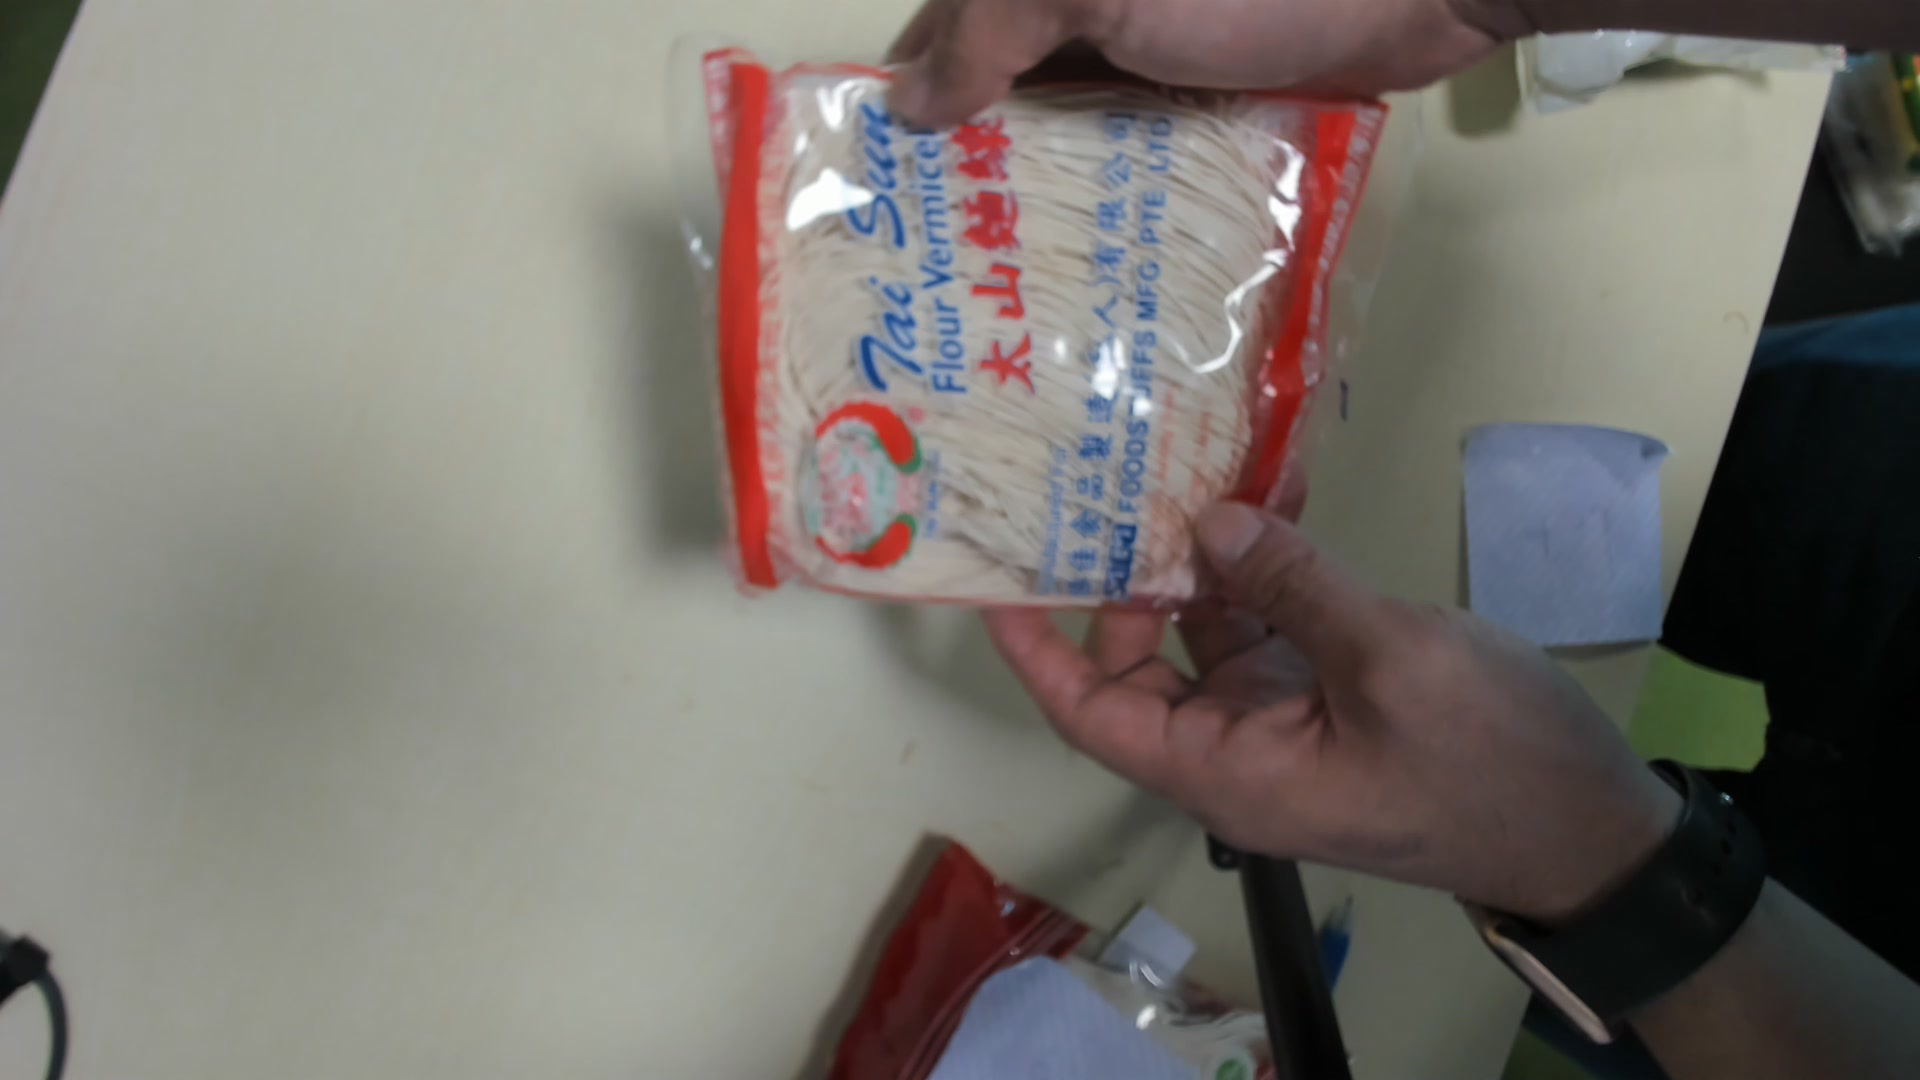BeeHoonVermicelli_100-199g_Halal_NonHealthy: (694, 51, 1366, 634)
